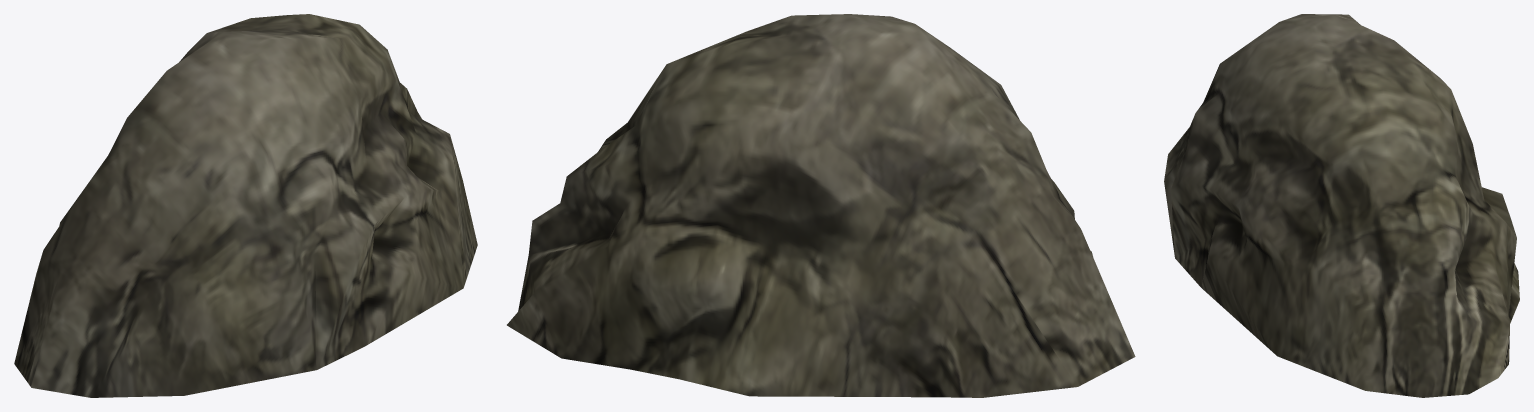
The model's file is MEP_Cliff_13.fbx.
3 views of the same model, side by side, from view 1: azimuth 30°, elevation 25°; view 2: azimuth 150°, elevation 25°; view 3: azimuth 270°, elevation 25° (orthographic). The views are drawn at different scales.
Parts seen in each view (by area): view 1: MEP_Desert_Cliff_13; view 2: MEP_Desert_Cliff_13; view 3: MEP_Desert_Cliff_13.
Boxes of the visible parts, bbox=[...] form: MEP_Desert_Cliff_13: bbox=[14, 14, 477, 397]; MEP_Desert_Cliff_13: bbox=[507, 14, 1135, 397]; MEP_Desert_Cliff_13: bbox=[1164, 14, 1519, 397].
Size of what is drawn, in the model's own units: 222 by 123 by 151.
Materials: 1 (1 with a texture image).
